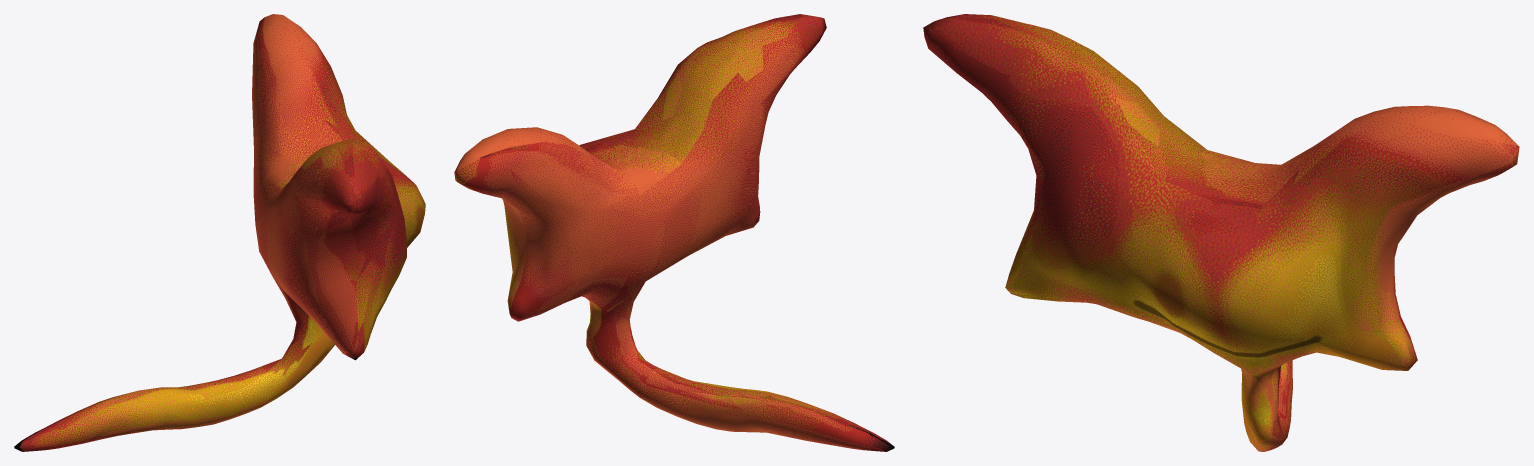
File: FIre_fara_ochi.fbx
3 renders of one model, left to right at view 1: azimuth 30°, elevation 25°; view 2: azimuth 150°, elevation 25°; view 3: azimuth 270°, elevation 25°, orthographic. The views are drawn at different scales.
Visible parts, largest first — view 1: Snake; view 2: Snake; view 3: Snake.
Boxes of the visible parts, left/top/right/bottom form: Snake: left=14, top=14, right=425, bottom=451; Snake: left=454, top=14, right=894, bottom=451; Snake: left=923, top=14, right=1519, bottom=451.
Size of the model in its own units: 11008 by 9022 by 11467.
1 material, 1 textured.
